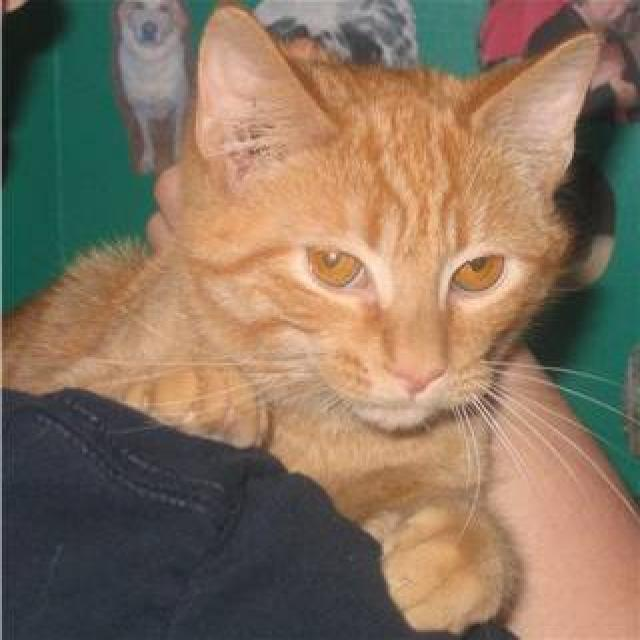Cat: (188, 0, 602, 439)
